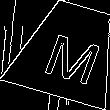M_N: (35, 20, 102, 82)
